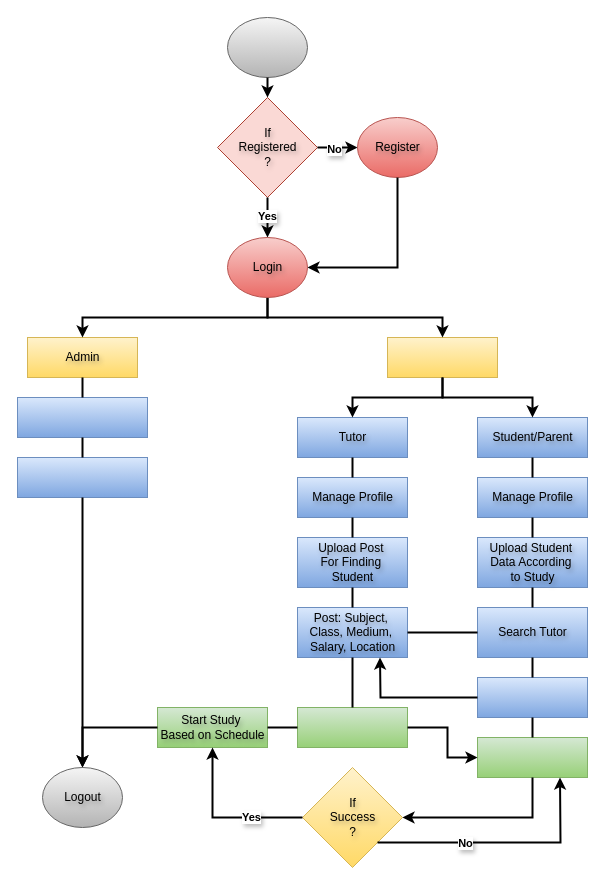
Image size: 605x885. Some labels were removed from this diagram. The centre of each missing label's shape, as x and y in pixels:
Apply Accept By Tutor: (352,727)
Apply For Tutor: (532,697)
Login Page: (267,47)
Manage Student Data: (82,477)
Manage Tutor Data: (82,417)
Payment Process: (532,757)
User: (442,357)
